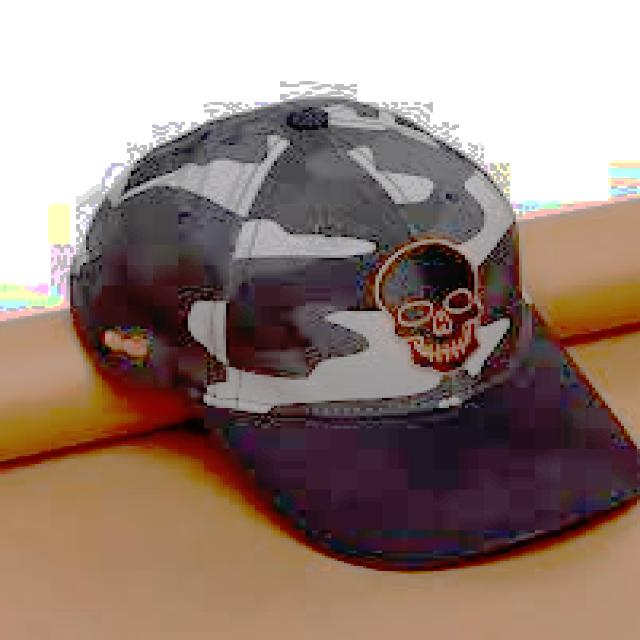TOPI: (60, 79, 637, 566)
